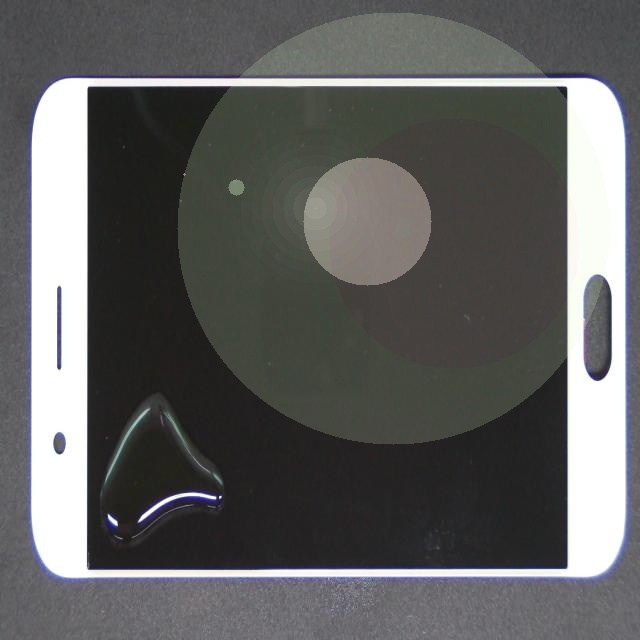oil: (18, 308, 238, 640)
